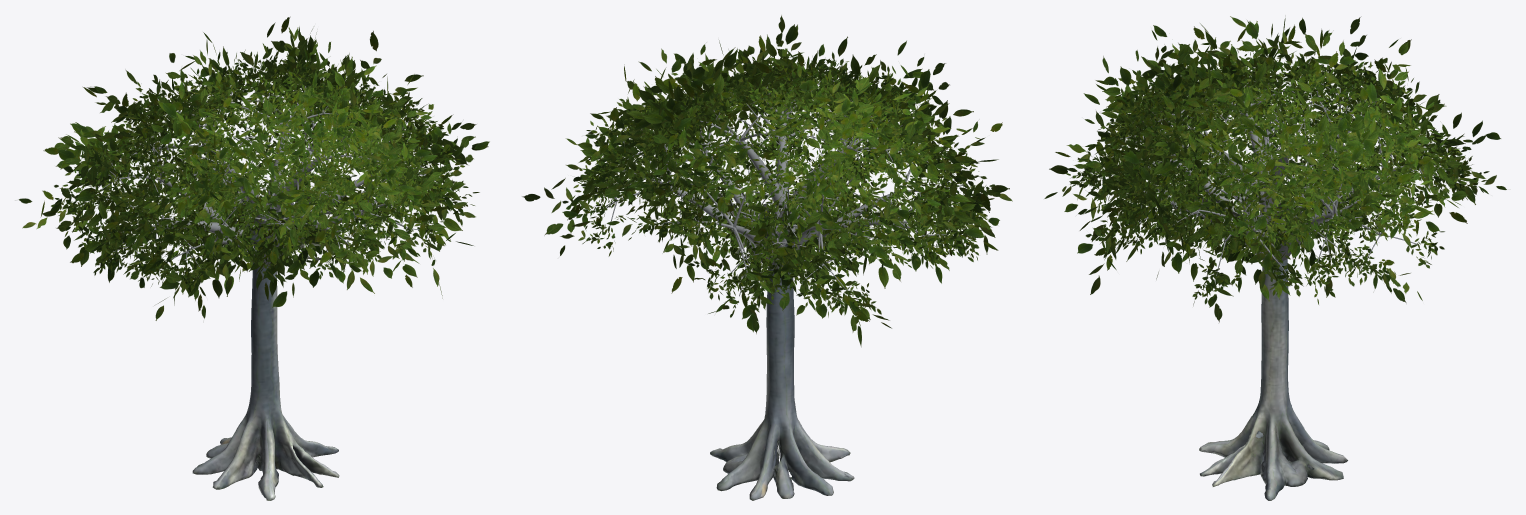
Rendered from kapok.glb.
The picture shows the model from 3 angles, left to right: view 1: azimuth 30°, elevation 25°; view 2: azimuth 150°, elevation 25°; view 3: azimuth 270°, elevation 25°; orthographic projection. The views are drawn at different scales.
Visible parts, largest first — view 1: lod1_leaves, lod0_leaves, lod0; view 2: lod1_leaves, lod0_leaves, lod0; view 3: lod1_leaves, lod0_leaves, lod0.
Part boxes in pixels (x1,y1,x2,y2): lod1_leaves: [18, 16, 489, 320]; lod0_leaves: [51, 50, 479, 290]; lod0: [83, 86, 435, 500]; lod1_leaves: [522, 15, 1012, 346]; lod0_leaves: [562, 52, 995, 317]; lod0: [606, 80, 963, 500]; lod1_leaves: [1044, 16, 1506, 322]; lod0_leaves: [1065, 44, 1489, 305]; lod0: [1098, 80, 1459, 500].
Size of what is drawn, in the model's own units: 17.8 by 16.95 by 16.92.
2 materials, 2 textured.
